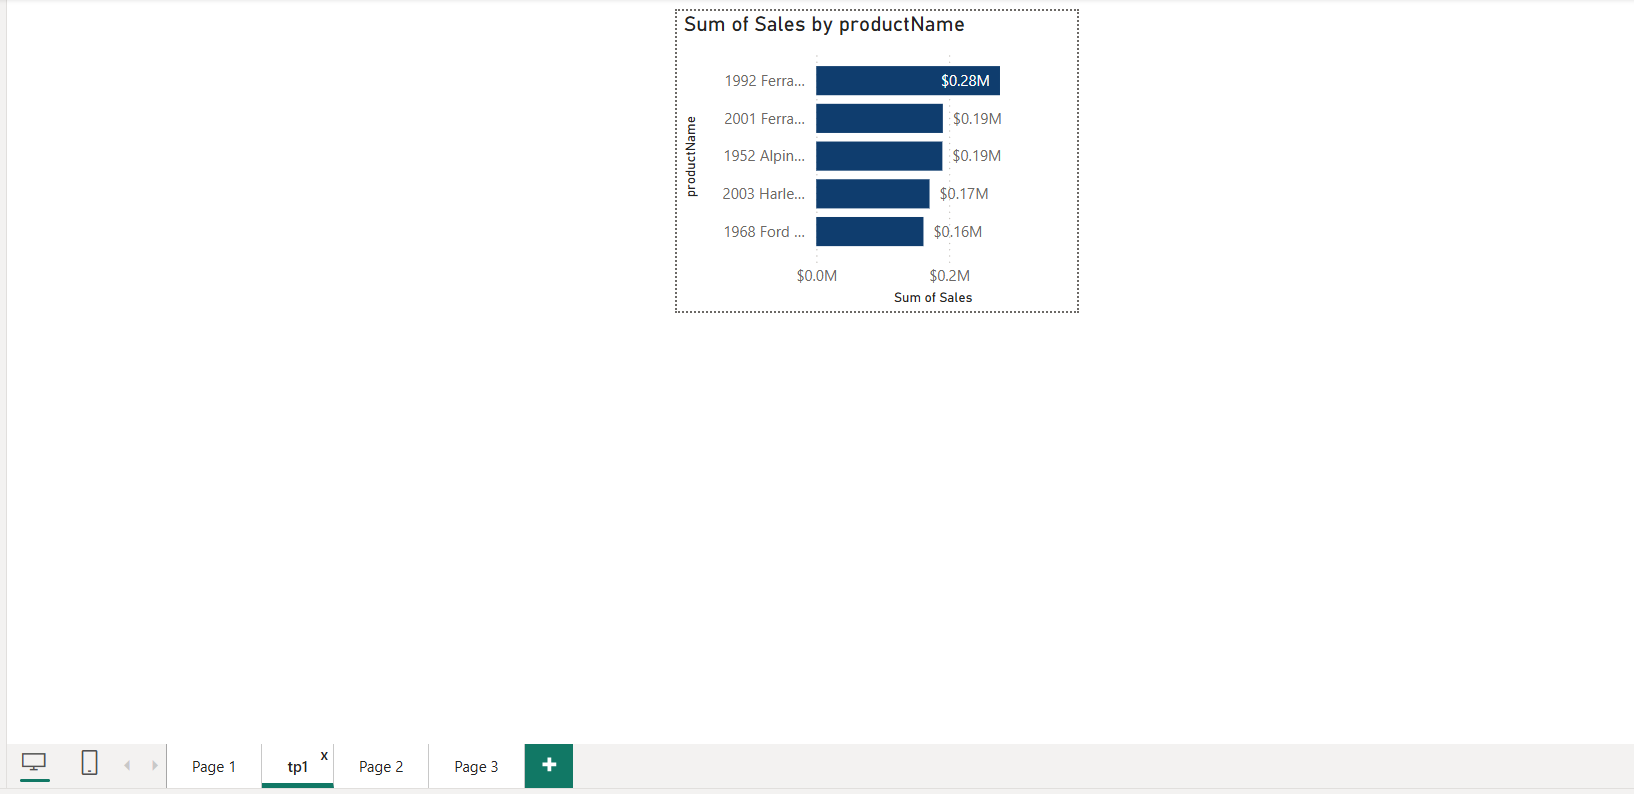

This screenshot's page, from the dashboard's own definition file:
{"tool":"powerbi","page":{"name":"tp1","canvas":[320,240],"ordinal":1},"visuals":[{"type":"barChart","fields":{"Y":["Sum(order details.Sales)"],"Category":["products.productName"]},"box":[0,0,320,240],"z":0}]}

Visuals, with their boxes on the page's 320x240 design canvas (x1, y1, x2, y2). These are canvas units, not pixel positions in the 1634x794 screenshot, which may show the page scaled, cropped or inside an application window:
barChart - Sum(order details.Sales) x products.productName: 0 0 320 240
